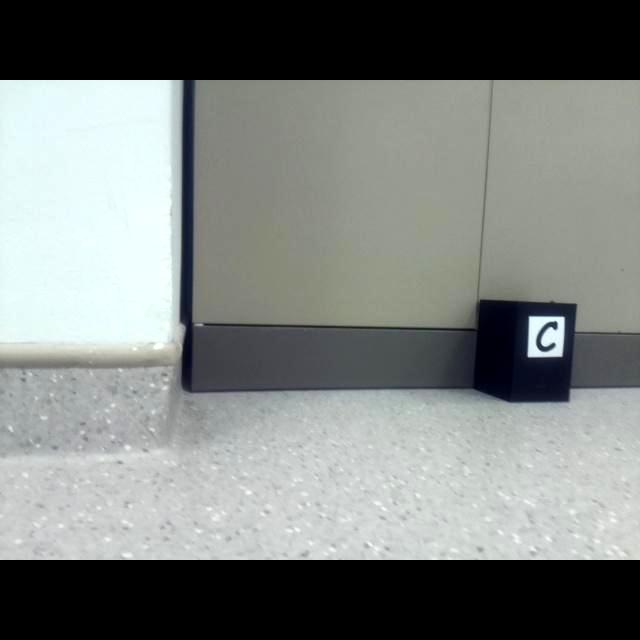C: (536, 322, 558, 353)
